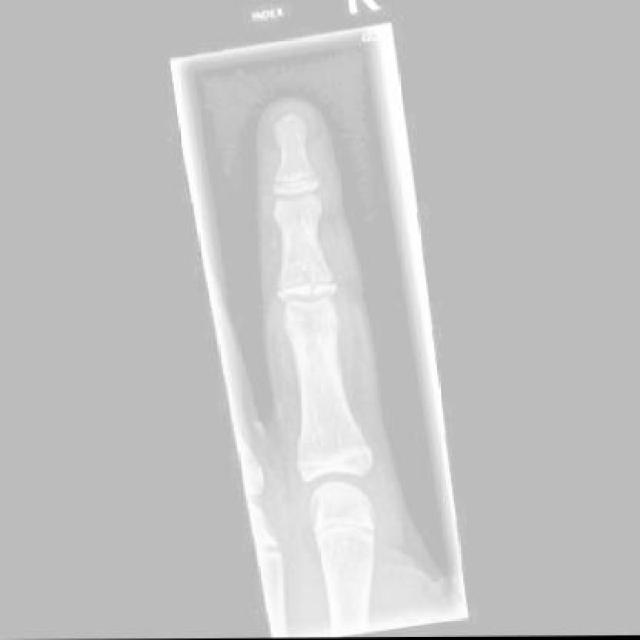Fracture: (277, 263, 322, 302)
